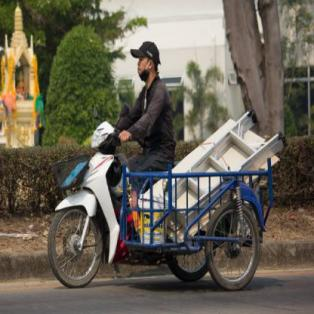Motocicleta: (43, 112, 122, 286)
